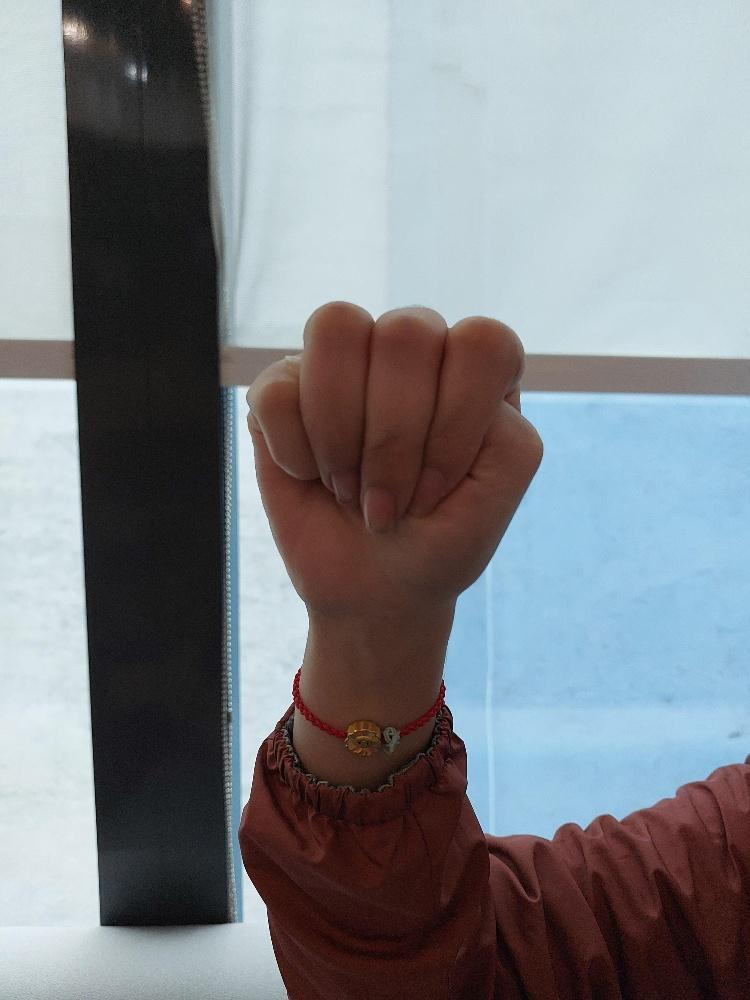m: (244, 291, 544, 611)
